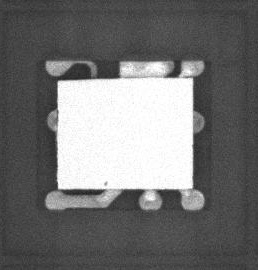DIE_INK: (97, 188, 104, 197)
